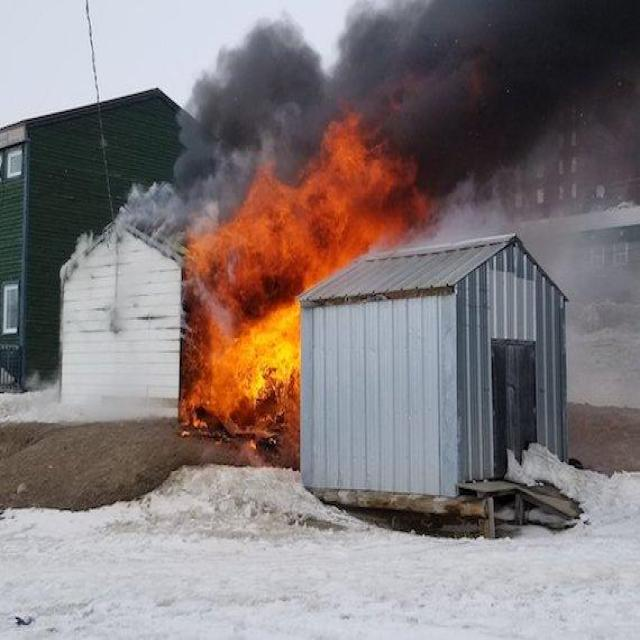Fire: (173, 112, 449, 470)
